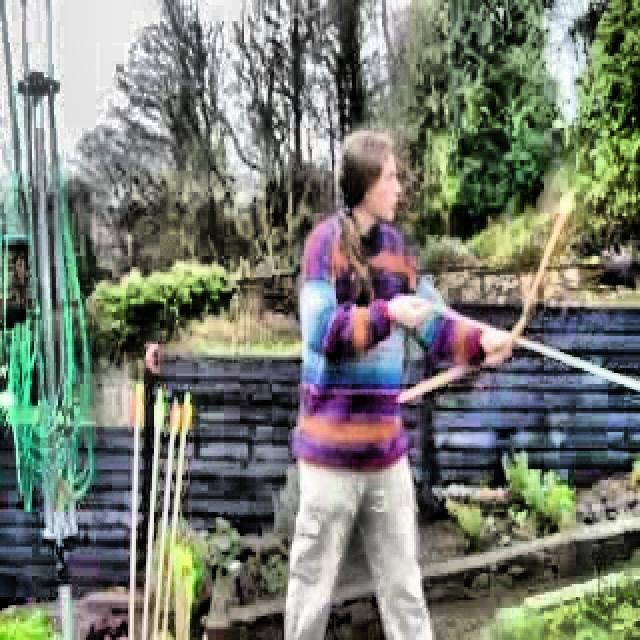I: (291, 109, 520, 640)
